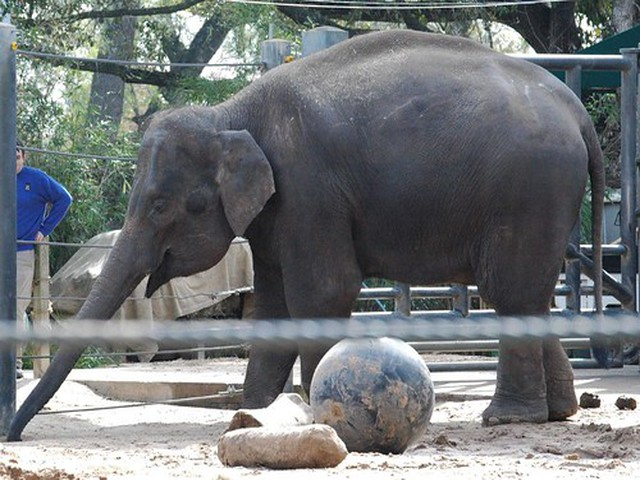Elephant: (20, 28, 615, 422)
Person: (12, 139, 73, 370)
